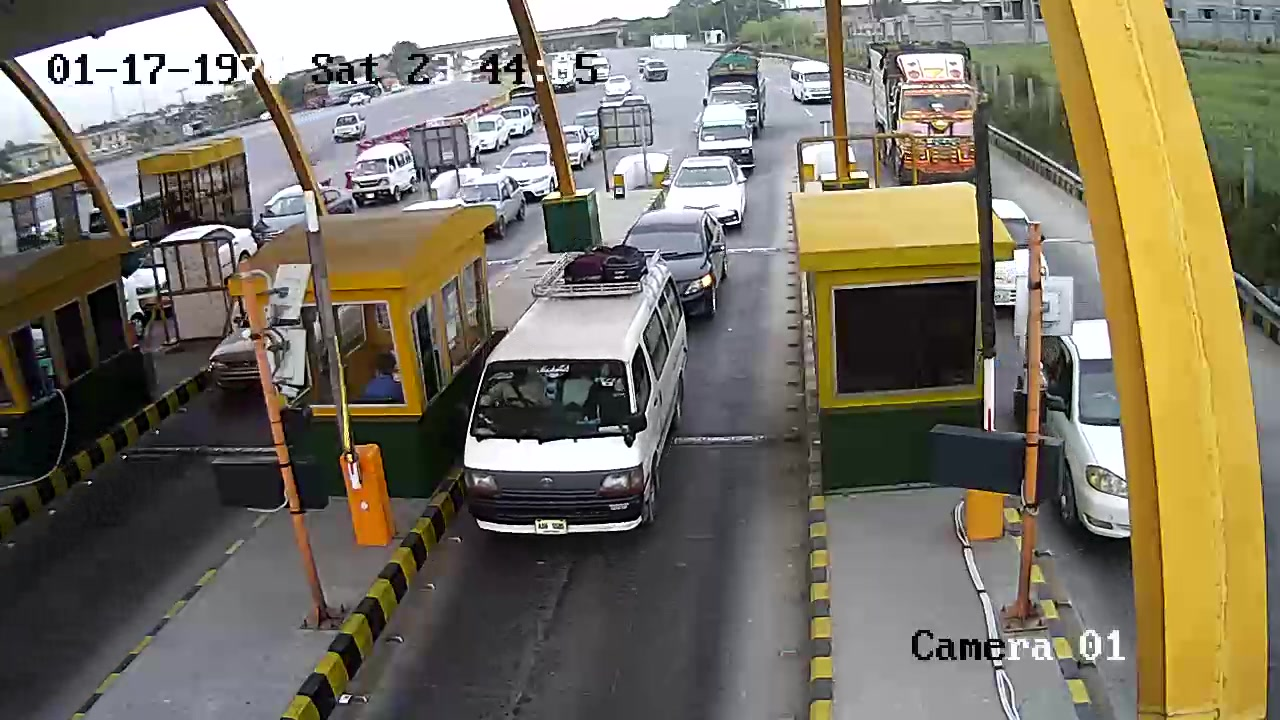F3: (458, 241, 692, 552)
